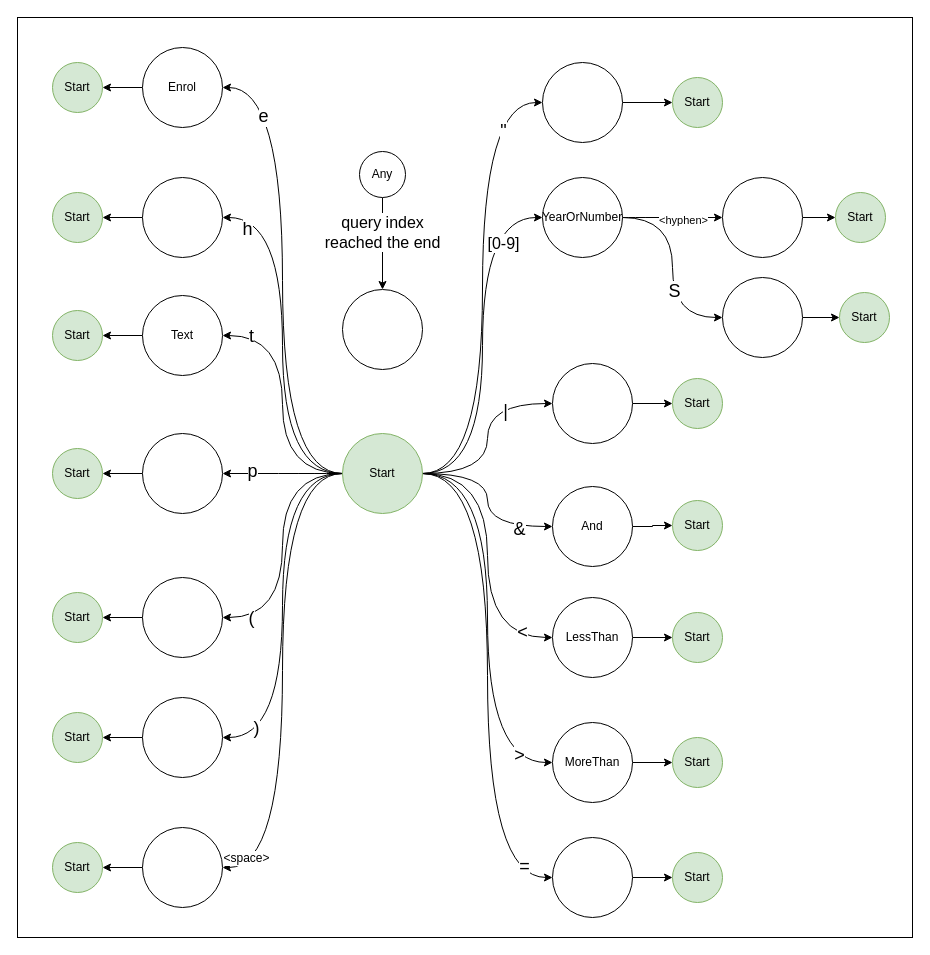
Some shapes in this 930 by 955 pixel diagram are drawn without their labels. Each missing label, with the centre of its shape:
DateTime: pixel 762 217
End: pixel 382 329
Equal: pixel 592 877
Helpful: pixel 182 217
L Parentheis: pixel 182 617
Or: pixel 592 403
Posted: pixel 182 473
R Parenthesis: pixel 182 737
Semester: pixel 762 317
TextValue: pixel 582 102
Whitespace: pixel 182 867
